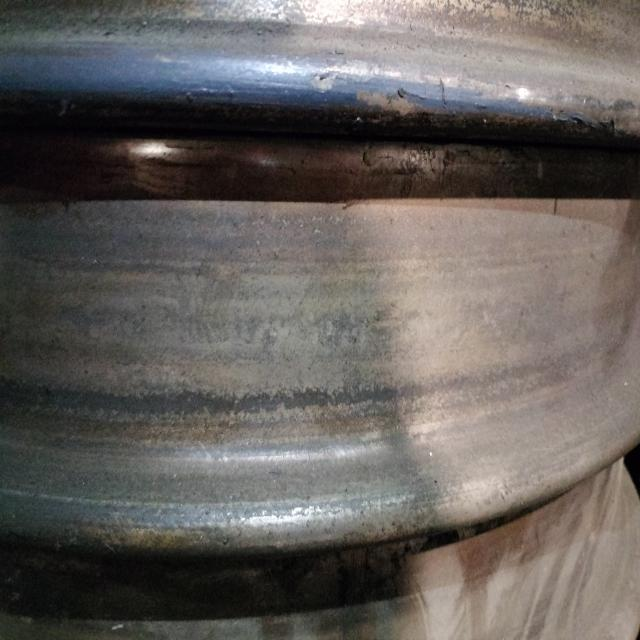Contact_Fatigue_Cracks: (455, 88, 631, 141), (340, 142, 471, 192)
Peeling: (100, 382, 441, 418)
